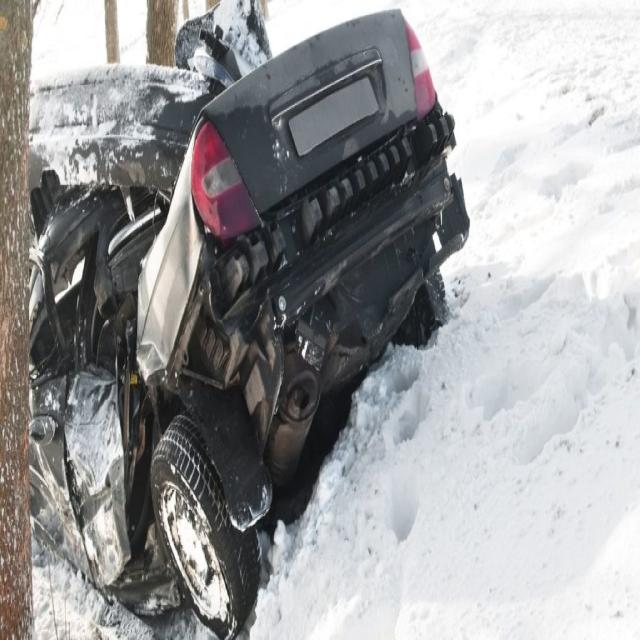Accident: (33, 2, 473, 640)
